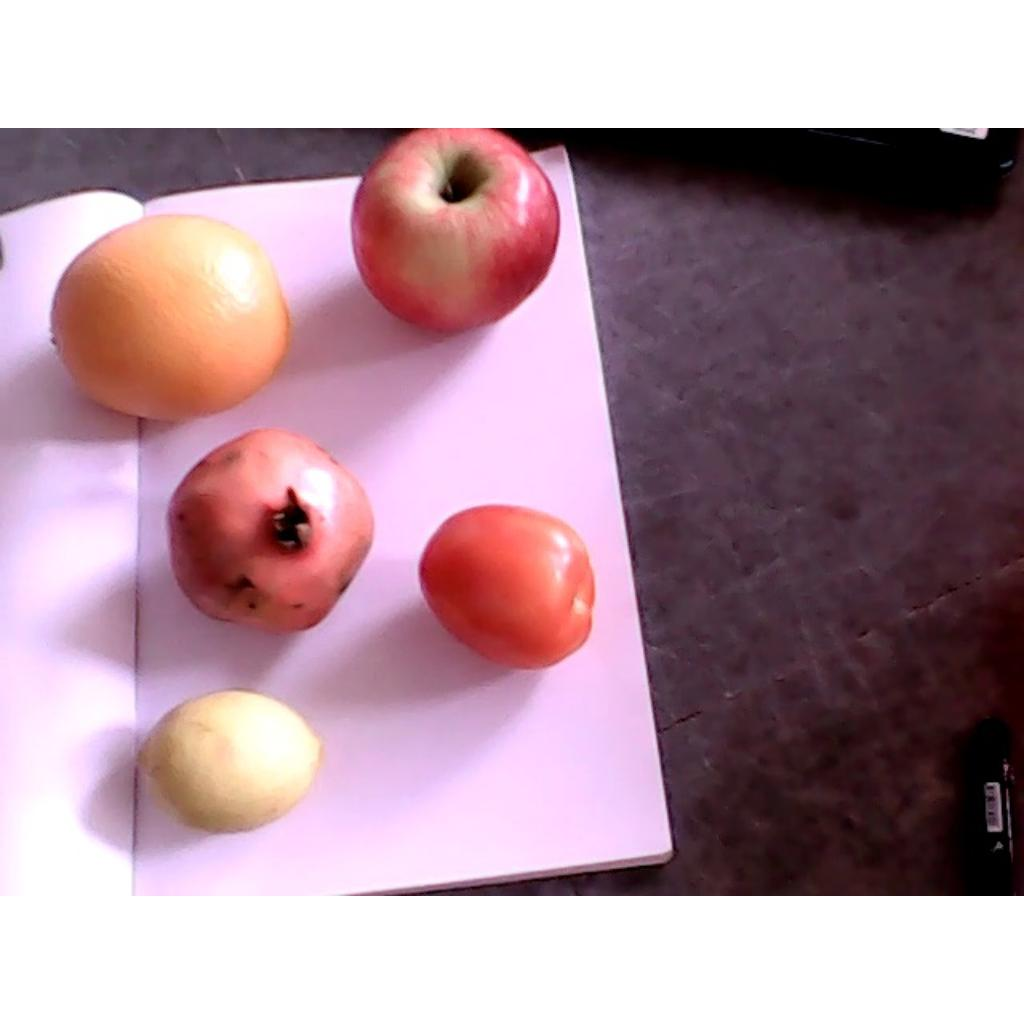apple: (351, 128, 561, 334)
lemon: (136, 690, 321, 834)
orange: (51, 215, 290, 422)
pomegranate: (169, 429, 374, 632)
tomato: (419, 504, 597, 670)
